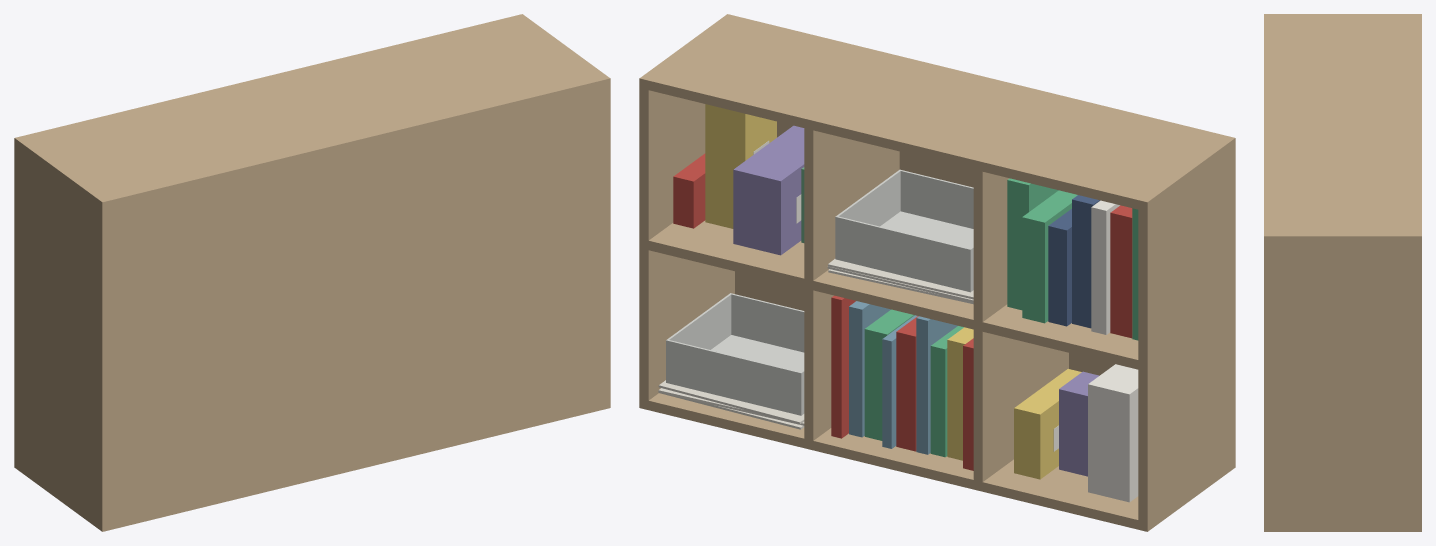
Rendered from open_shelf.fbx.
3 views of the same model, side by side, from view 1: azimuth 30°, elevation 25°; view 2: azimuth 150°, elevation 25°; view 3: azimuth 270°, elevation 25° (orthographic). The views are drawn at different scales.
Parts seen in each view (by area): view 1: open_shelf; view 2: open_shelf; view 3: open_shelf.
Part boxes in pixels (x1=…): open_shelf: x1=14, y1=14, x2=610, y2=531; open_shelf: x1=639, y1=14, x2=1235, y2=531; open_shelf: x1=1264, y1=14, x2=1421, y2=531.
Size of the model in its own units: 100 by 62 by 30.
